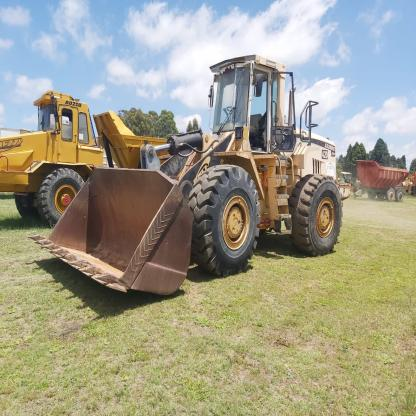bull_dozer/loader/grader: (55, 51, 348, 329)
